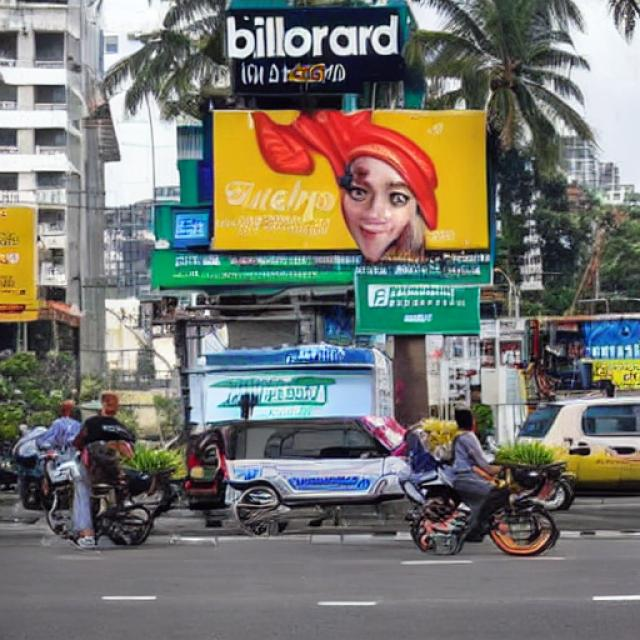Billboard: (208, 108, 492, 262)
